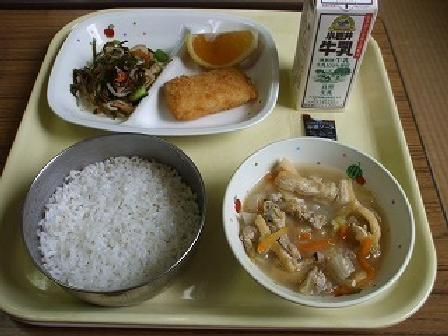Citrus: (177, 21, 264, 70)
Milk: (284, 0, 385, 111)
Rice: (33, 135, 202, 300)
Soups: (226, 140, 416, 306)
cutlet: (160, 66, 268, 127)
salad with sauce: (72, 31, 163, 114)
